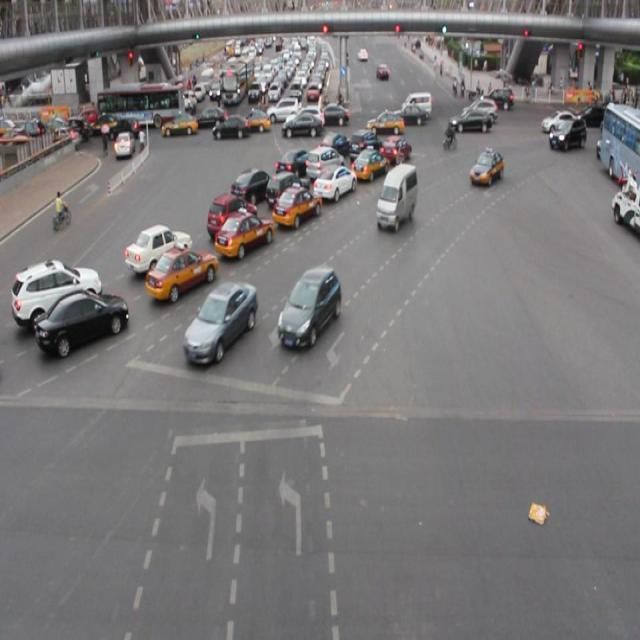car: (10, 260, 105, 324), (34, 290, 129, 350), (186, 283, 255, 359), (280, 268, 340, 346), (146, 246, 216, 298), (124, 224, 193, 269), (214, 210, 274, 255), (206, 195, 257, 238), (274, 185, 321, 230), (266, 170, 310, 208), (315, 164, 356, 202), (231, 167, 274, 202), (352, 146, 388, 184), (468, 150, 501, 188), (348, 127, 382, 163), (276, 149, 313, 182), (379, 135, 412, 166), (316, 130, 351, 159)
truck: (375, 163, 417, 233), (307, 146, 343, 183)
